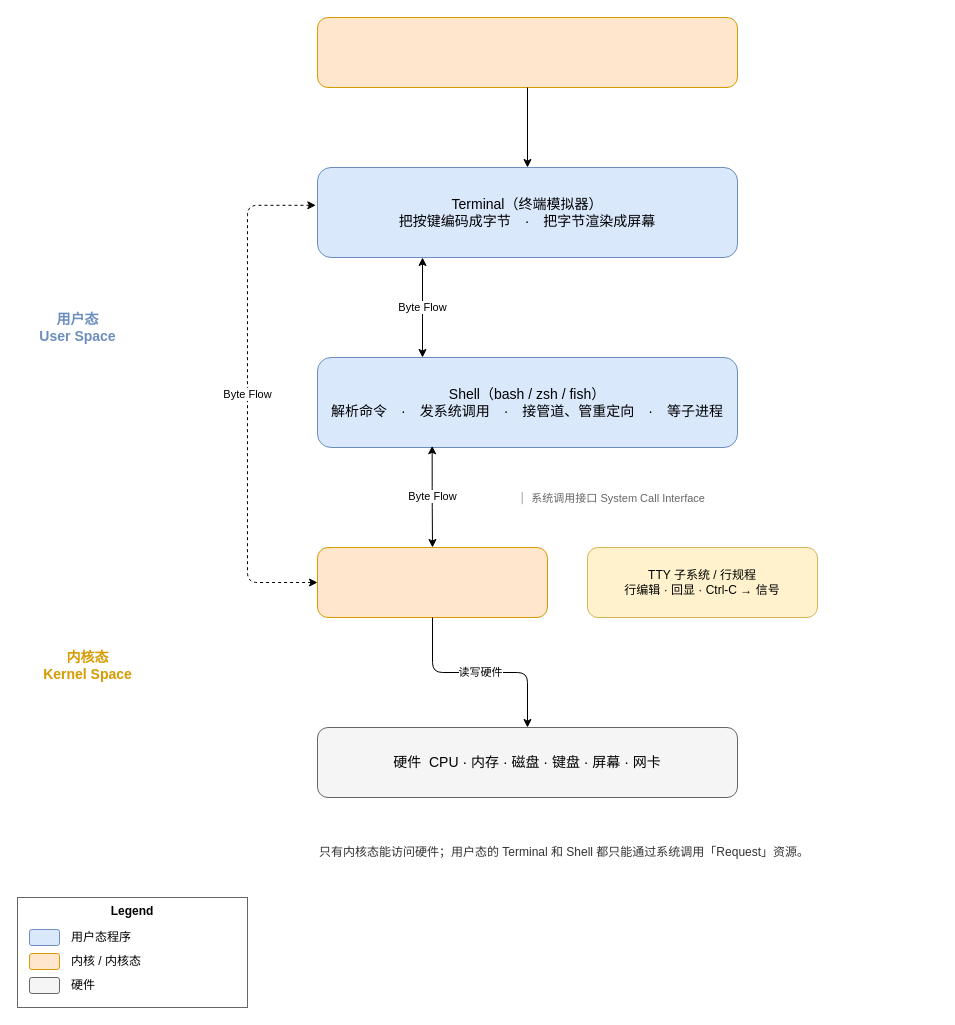
This 955x1025 diagram has some shape labels left out. The box of each missing label's shape, as (x1, y1, x2, y2) in pixels:
OS 内核: (316, 546, 548, 618)
User: (316, 16, 738, 88)
